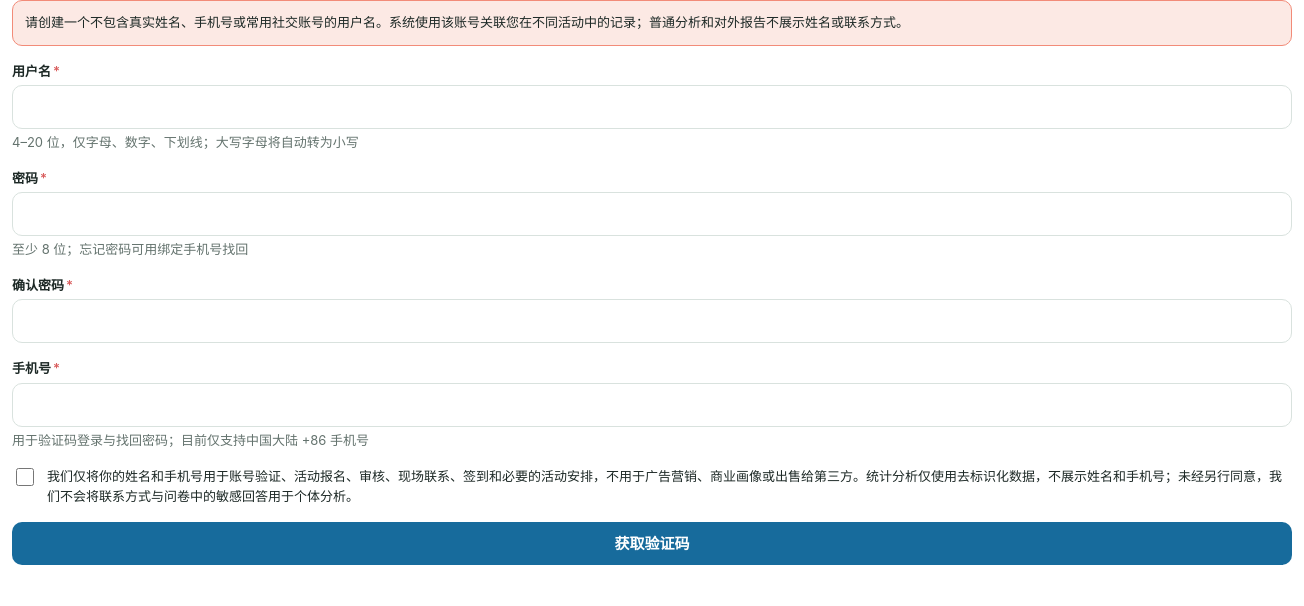
Test: RegisterForm 用户名+密码+手机号注册 › 两次密码不一致时不请求验证码
In the field labelled "用户名*": {"x": 652, "y": 107} 12,85 -> 1292,129, type "new_user1"
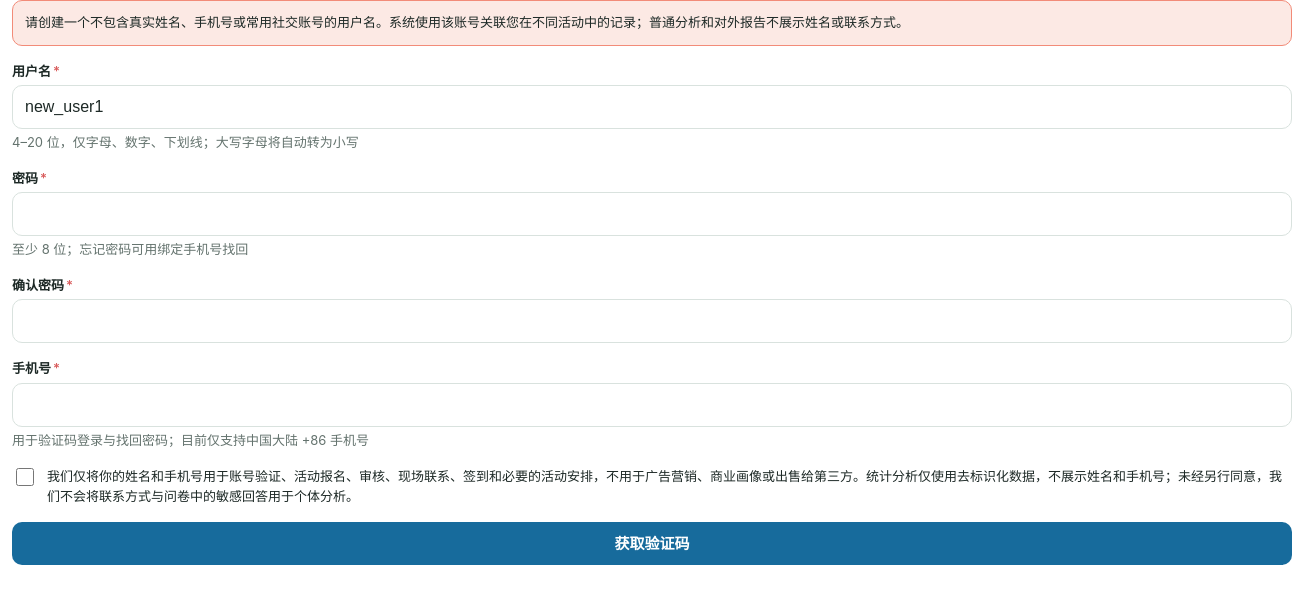
In the password field labelled "密码*": {"x": 652, "y": 214} 12,192 -> 1292,236, type "secret123"
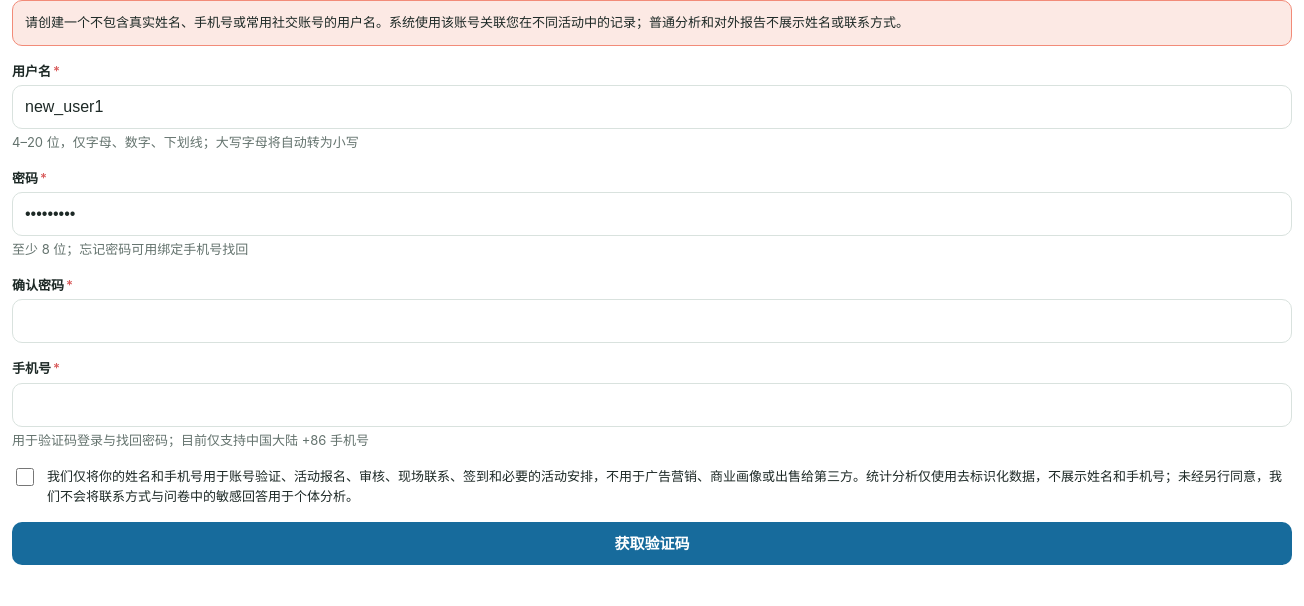
In the password field labelled "确认密码*": {"x": 652, "y": 321} 12,299 -> 1292,343, type "secret456"
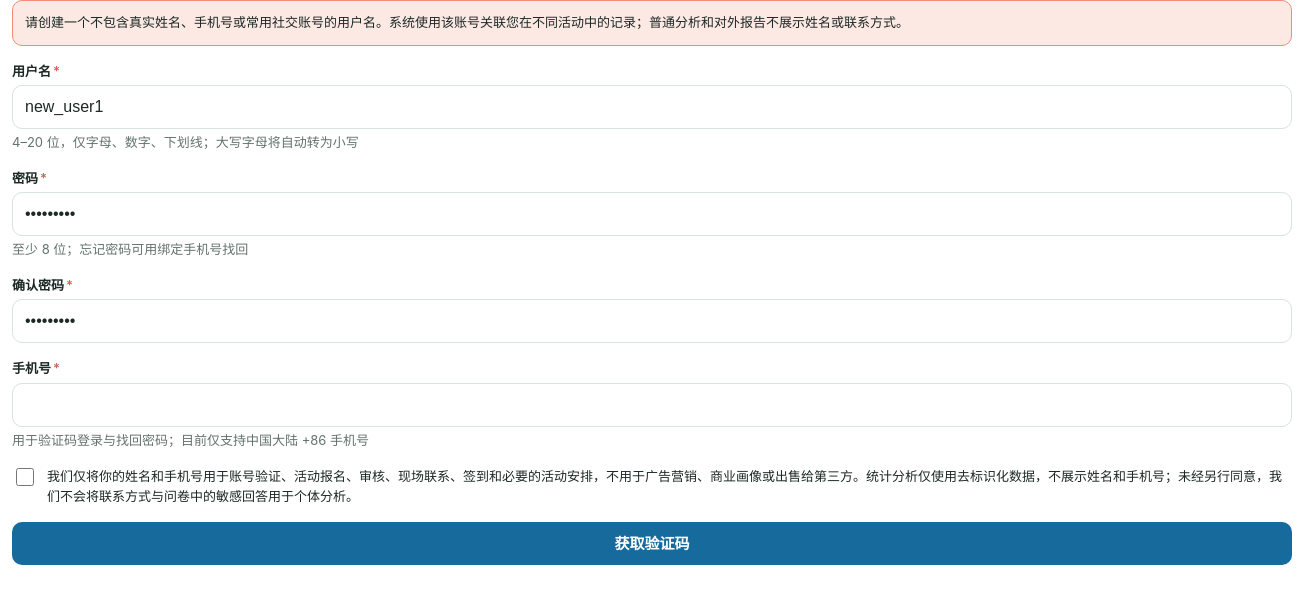
In the field labelled "手机号*": {"x": 652, "y": 404} 12,382 -> 1292,426, type "13812345678"
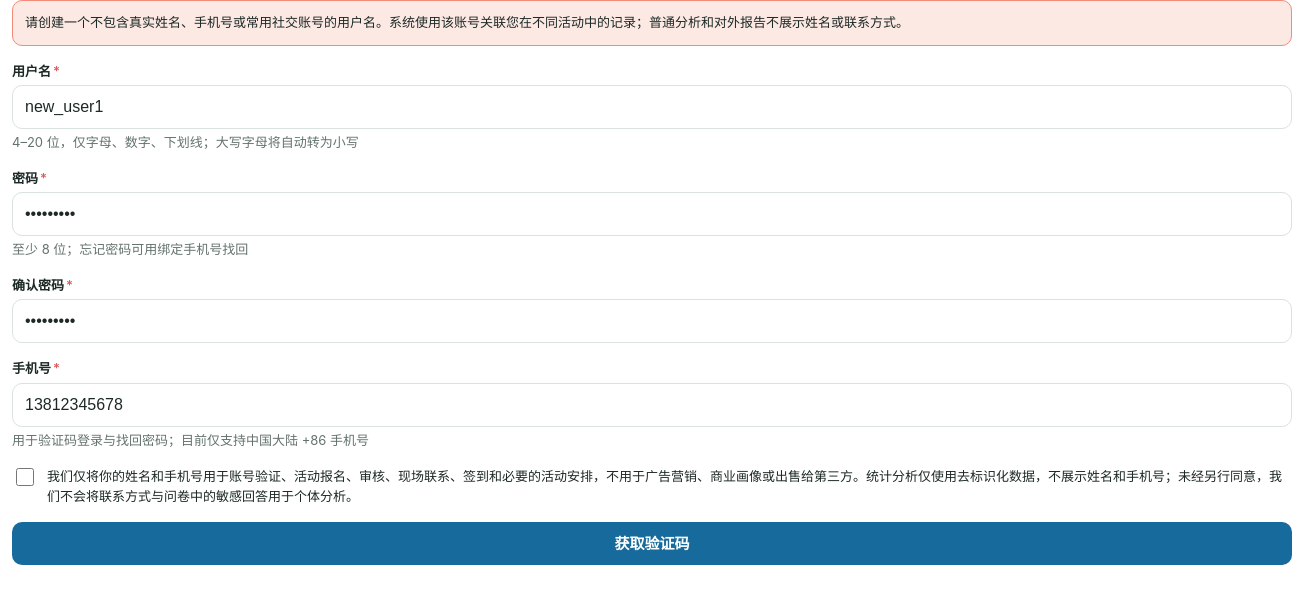
Click the checkbox: {"x": 25, "y": 477} 16,468 -> 34,486
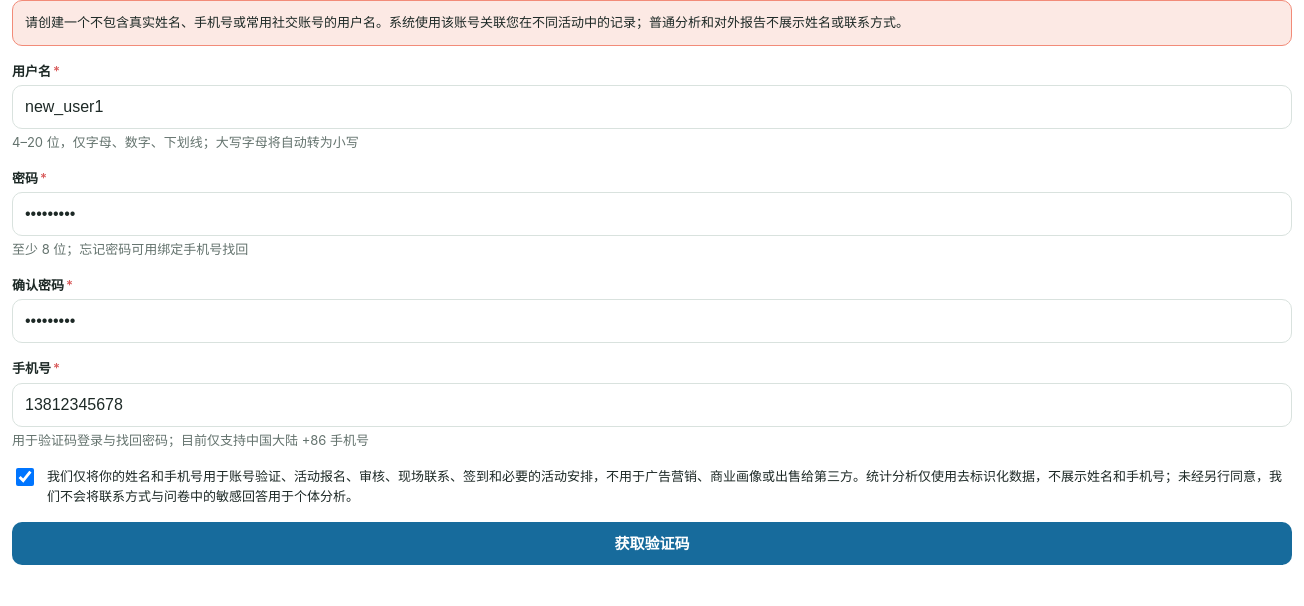
Click the button "获取验证码": {"x": 652, "y": 544} 12,522 -> 1292,565
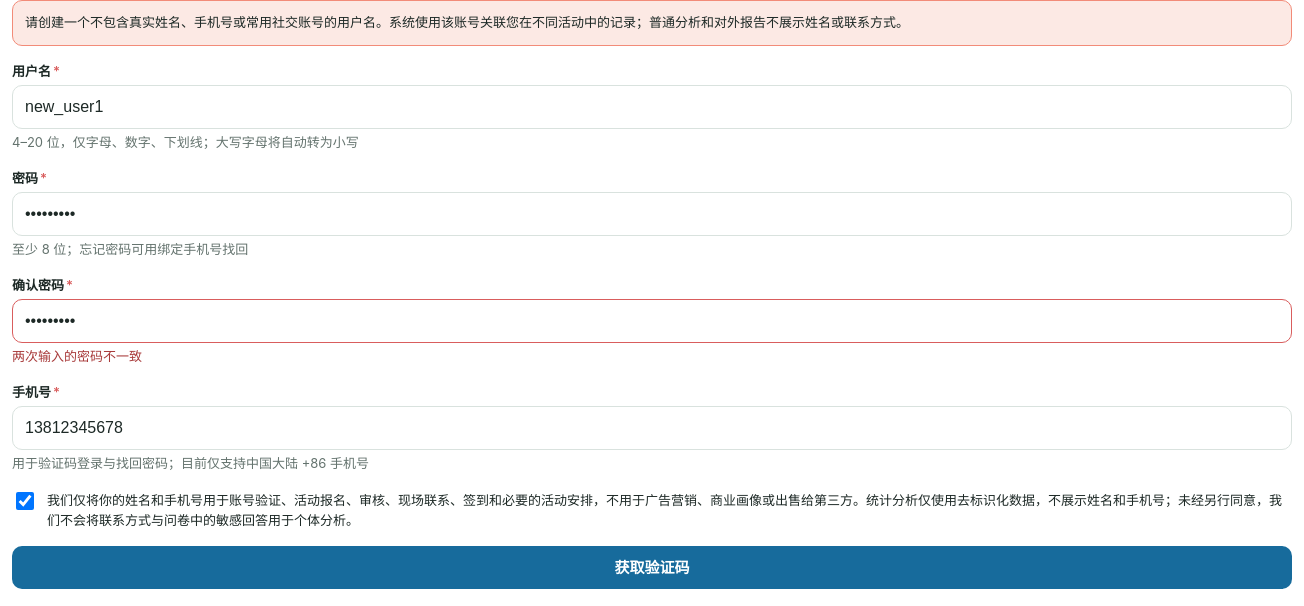
Check: the text "两次输入的密码不一致" is shown, box 12,348 -> 142,364
